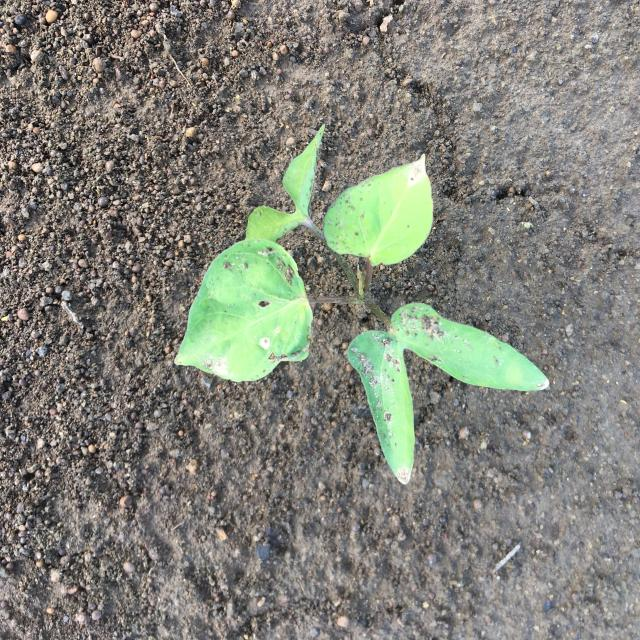MorningGlory: (175, 124, 550, 484)
